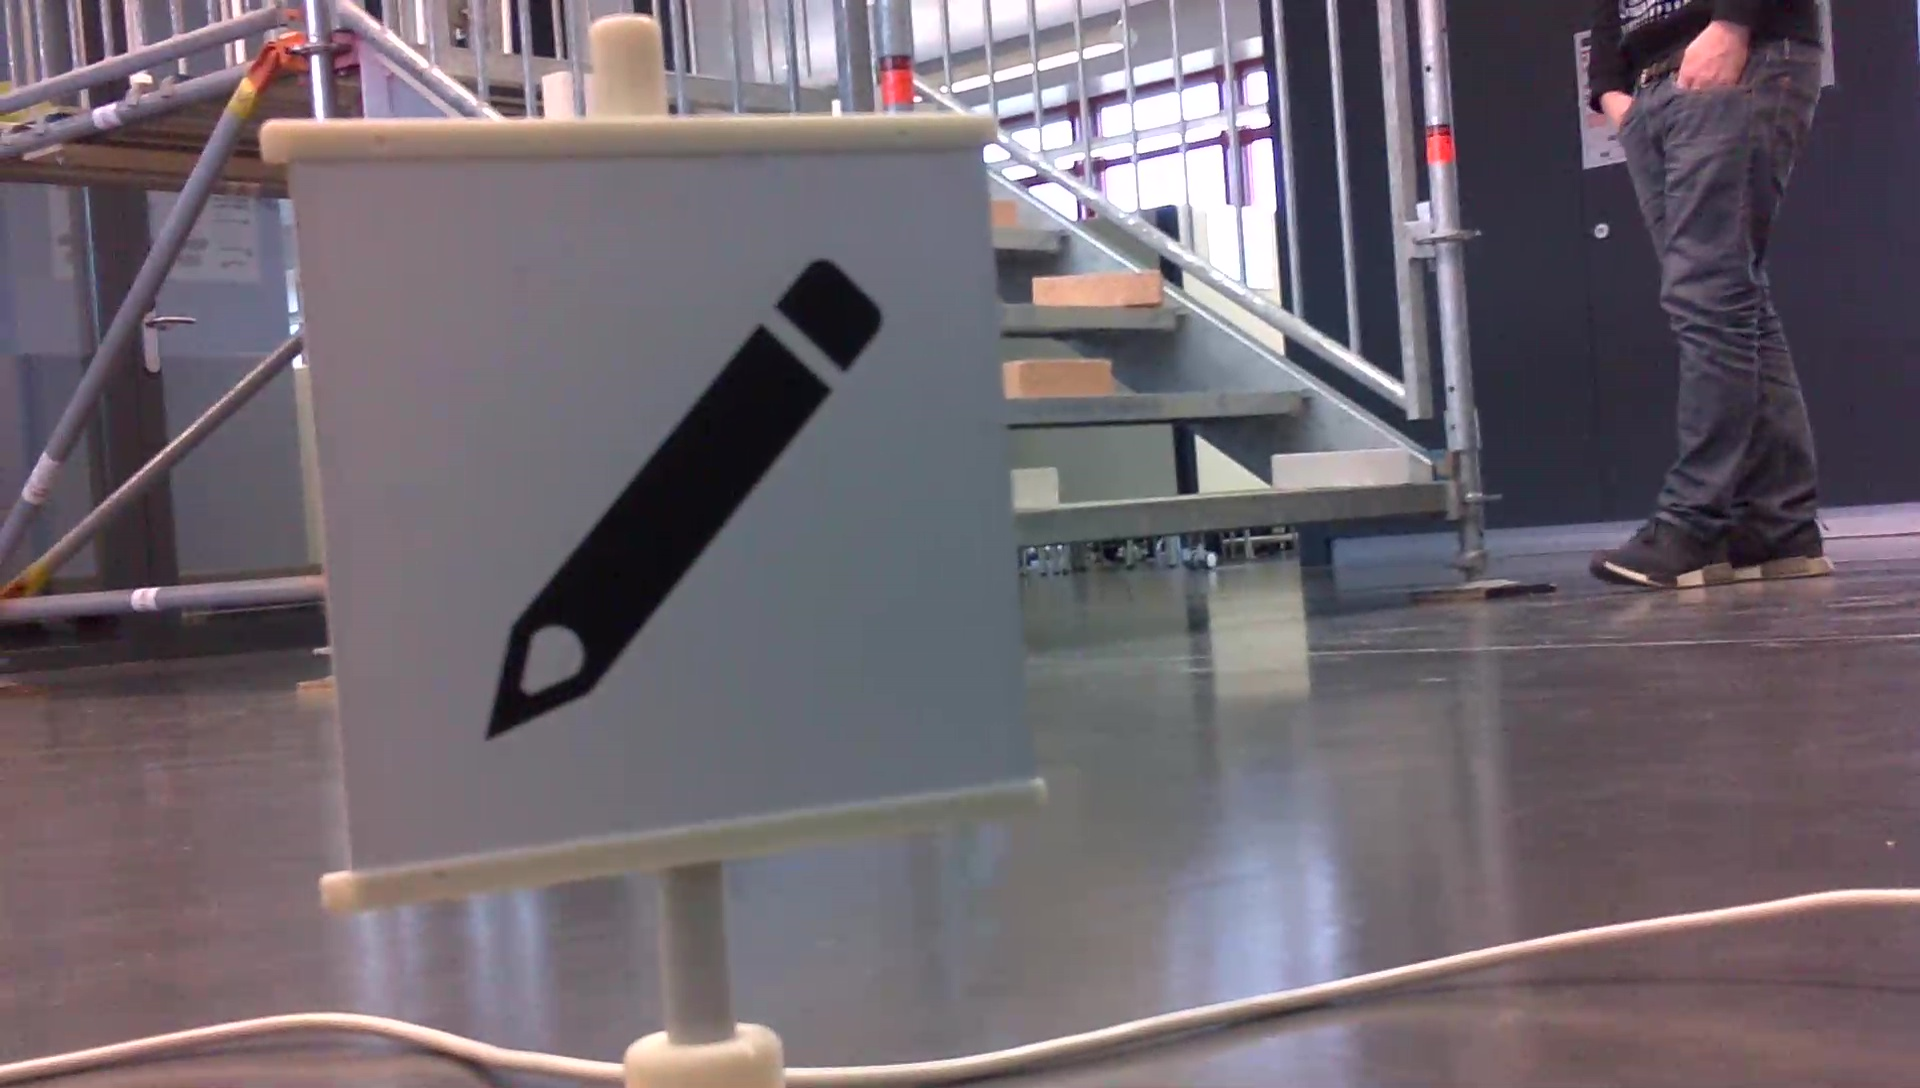brick: (1276, 448, 1408, 485), (1033, 270, 1158, 305), (1002, 359, 1108, 398), (1013, 468, 1058, 506), (992, 200, 1015, 226)
edge: (1021, 487, 1448, 546), (1007, 390, 1320, 422), (997, 305, 1192, 328), (994, 222, 1075, 247)
pencil: (467, 243, 895, 758)
